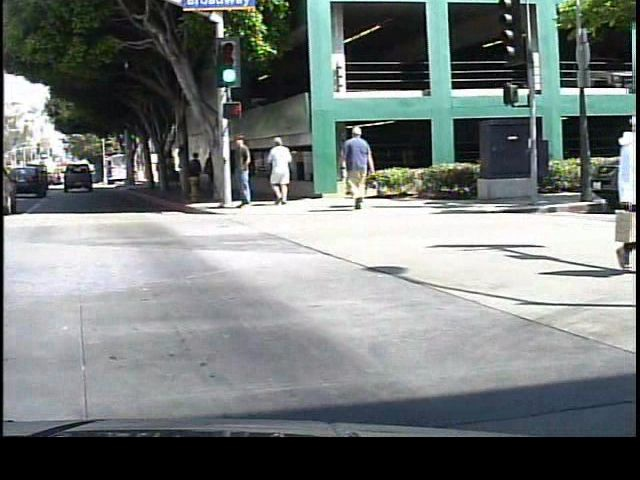person: (597, 105, 637, 272), (339, 122, 380, 211), (229, 131, 258, 215), (265, 133, 294, 207), (187, 148, 203, 196)
